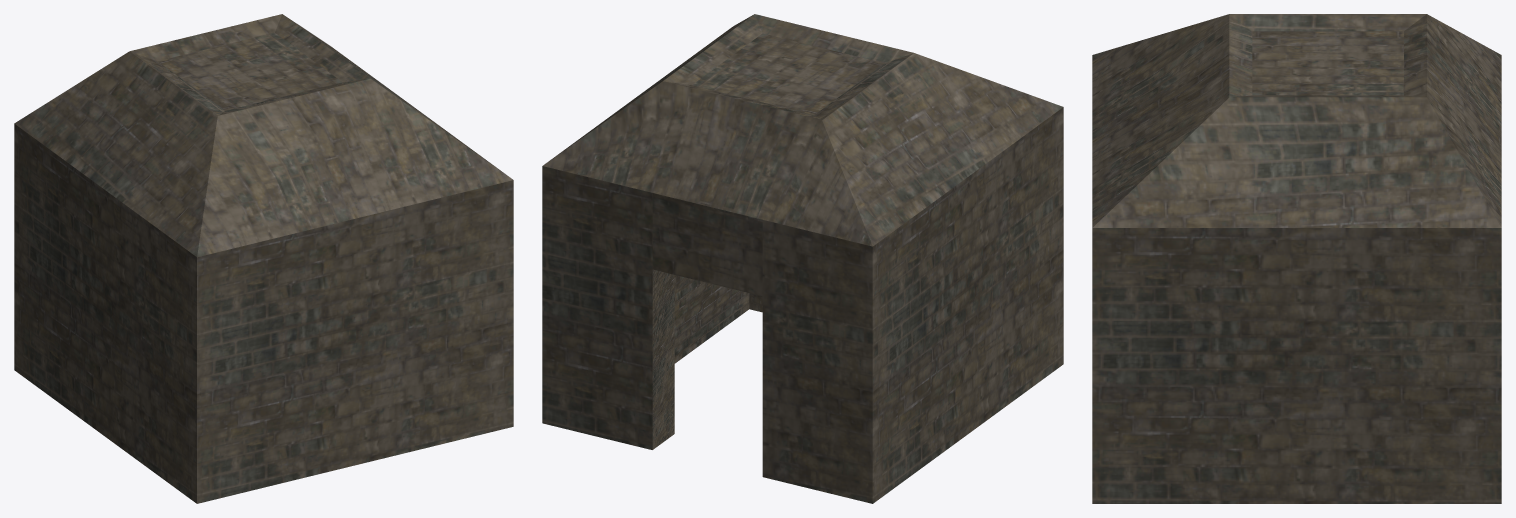
The model's file is TopPart.glb.
3 renders of one model, left to right at view 1: azimuth 30°, elevation 25°; view 2: azimuth 150°, elevation 25°; view 3: azimuth 270°, elevation 25°, orthographic. The views are drawn at different scales.
Parts seen in each view (by area): view 1: TopPart; view 2: TopPart; view 3: TopPart.
Boxes of the visible parts, left/top/right/bottom form: TopPart: left=14, top=14, right=513, bottom=503; TopPart: left=542, top=14, right=1063, bottom=503; TopPart: left=1092, top=14, right=1501, bottom=503.
Bounding box in the file's own units: 30 × 29.26 × 30.
Materials: 1 (1 with a texture image).
